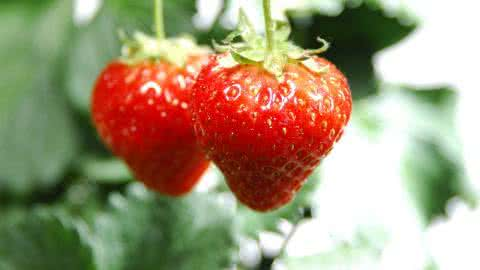strawberry: (195, 21, 355, 212), (93, 33, 222, 193)
